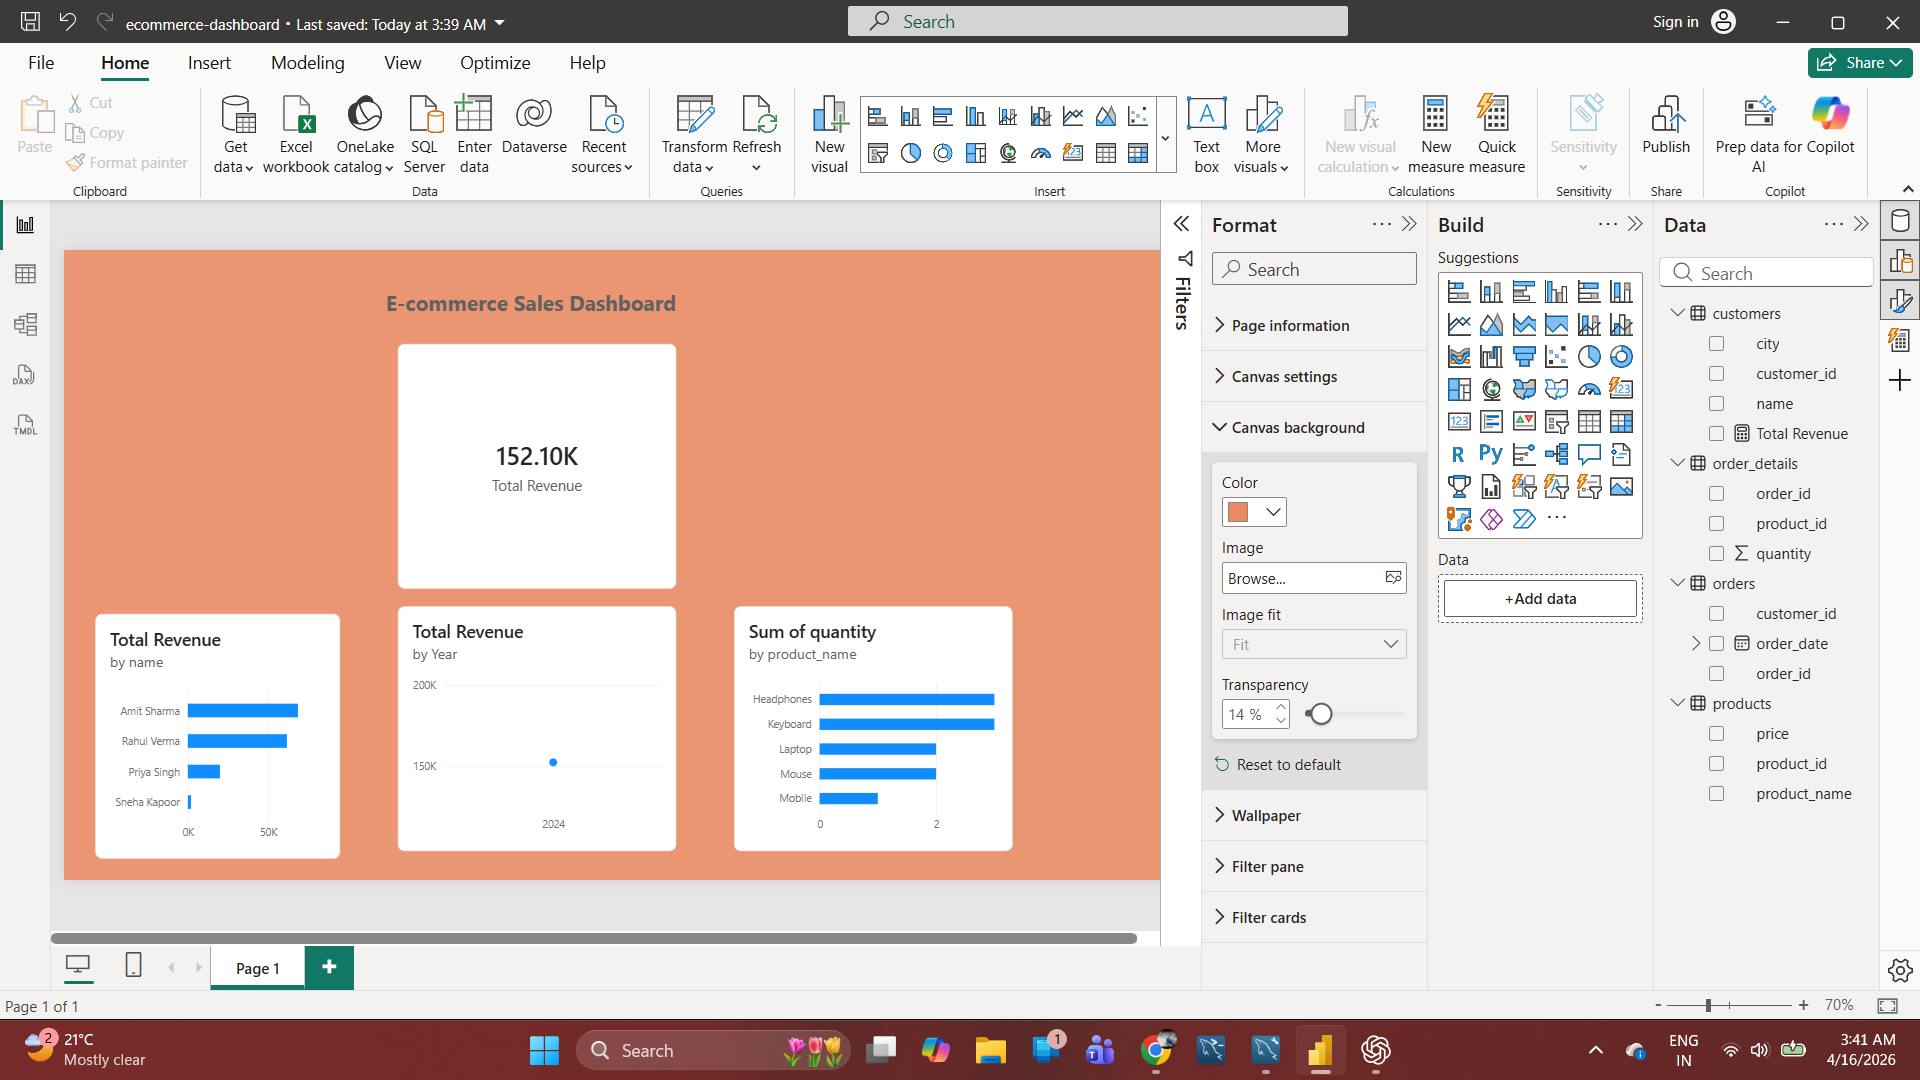

What the dashboard file says about the page in this screenshot:
{"tool":"powerbi","page":{"name":"Page 1","canvas":[1280,720],"ordinal":0},"visuals":[{"type":"card","fields":{"Values":["customers.Total Revenue"]},"box":[381.2,107.5,318.8,280],"z":0},{"type":"barChart","fields":{"Category":["customers.name"],"Y":["customers.Total Revenue"]},"box":[36.2,416.2,280,280],"z":1000},{"type":"barChart","fields":{"Category":["products.product_name"],"Y":["Sum(order_details.quantity)"]},"box":[765,407.5,318.8,280],"z":2000},{"type":"lineChart","fields":{"Category":["orders.order_date.Variation.Date Hierarchy.Year","orders.order_date.Variation.Date Hierarchy.Quarter","orders.order_date.Variation.Date Hierarchy.Month","orders.order_date.Variation.Date Hierarchy.Day"],"Y":["customers.Total Revenue"]},"box":[381.2,407.5,318.8,280],"z":3000},{"type":"textbox","box":[0,45,1067.5,41.2],"z":4000}]}

Visuals, with their boxes on the page's 1280x720 design canvas (x1, y1, x2, y2). These are canvas units, not pixel positions in the 1920x1080 screenshot, which may show the page scaled, cropped or inside an application window:
card - customers.Total Revenue: pyautogui.locateOnScreen(381, 108, 700, 388)
barChart - customers.name x customers.Total Revenue: pyautogui.locateOnScreen(36, 416, 316, 696)
barChart - products.product_name x Sum(order_details.quantity): pyautogui.locateOnScreen(765, 408, 1084, 688)
lineChart - orders.order_date.Variation.Date Hierarchy.Year x orders.order_date.Variation.Date Hierarchy.Quarter: pyautogui.locateOnScreen(381, 408, 700, 688)
textbox: pyautogui.locateOnScreen(0, 45, 1068, 86)
